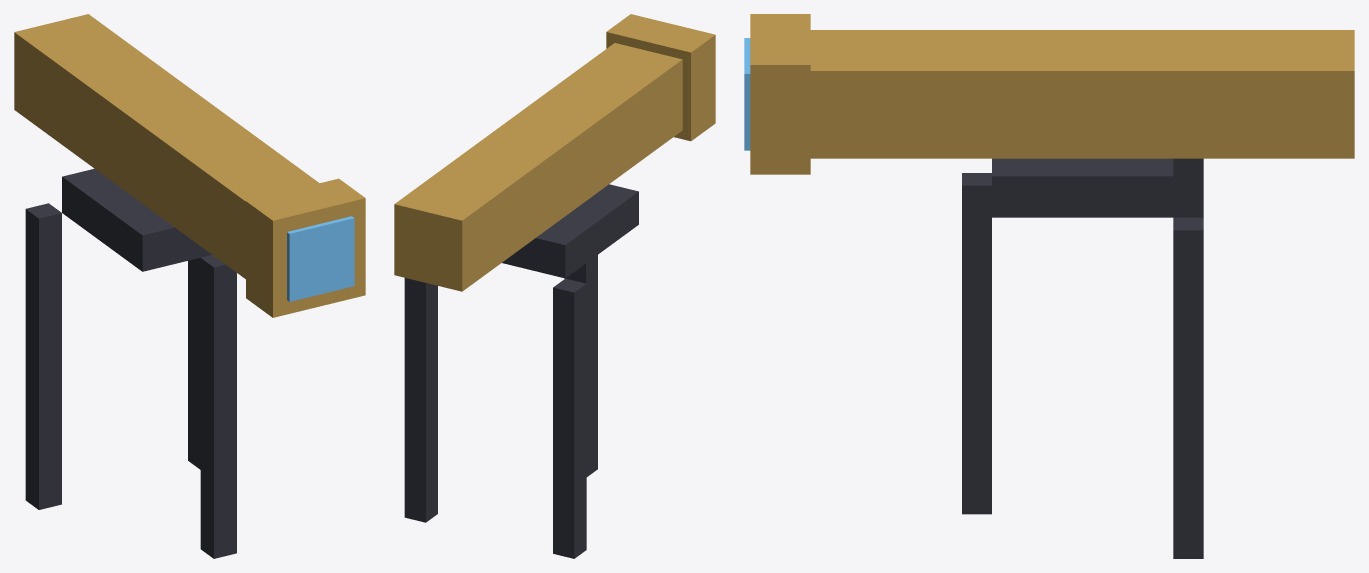
File: telescope.glb
3 views of the same model, side by side, from view 1: azimuth 30°, elevation 25°; view 2: azimuth 150°, elevation 25°; view 3: azimuth 270°, elevation 25° (orthographic). The views are drawn at different scales.
Visible parts, largest first — view 1: telescope; view 2: telescope; view 3: telescope.
Part boxes in pixels (x1,y1,x2,y2): telescope: (14, 14, 365, 558); telescope: (394, 14, 715, 558); telescope: (744, 14, 1354, 558).
Size of the model in its own units: 0.8 by 1.71 by 2.02.
1 material, 1 textured.
